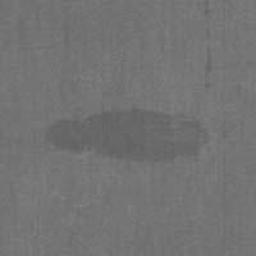Oil spot: (47, 110, 205, 161), (205, 0, 212, 88)
